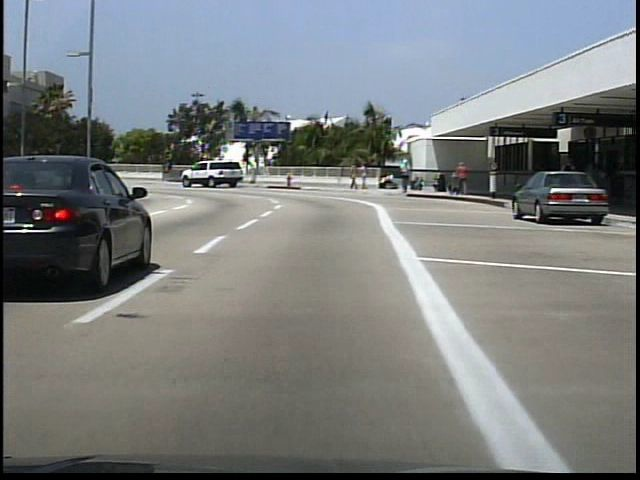person: (558, 152, 581, 209), (456, 160, 472, 195), (402, 158, 414, 198), (350, 163, 361, 193), (361, 162, 371, 193)
